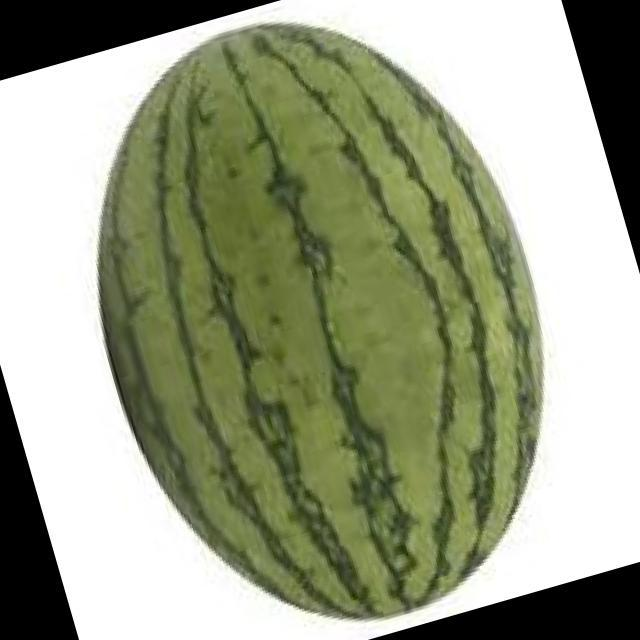watermelon: (100, 25, 541, 617)
